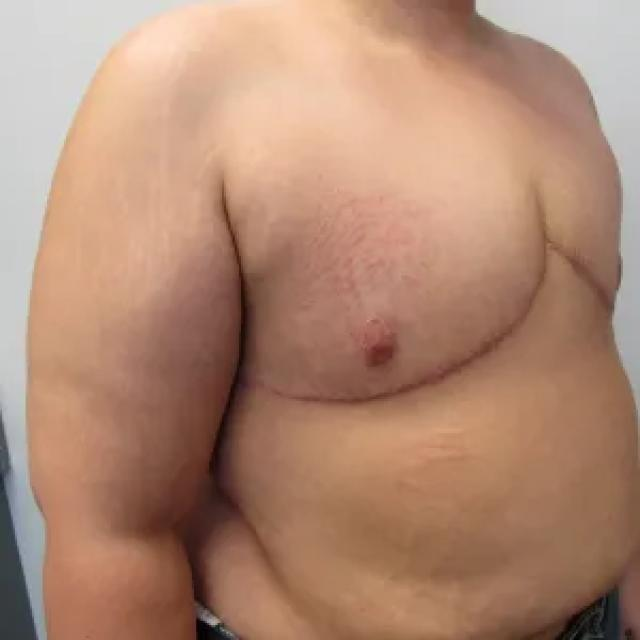Seno herido: (230, 191, 539, 426), (547, 115, 631, 336)
